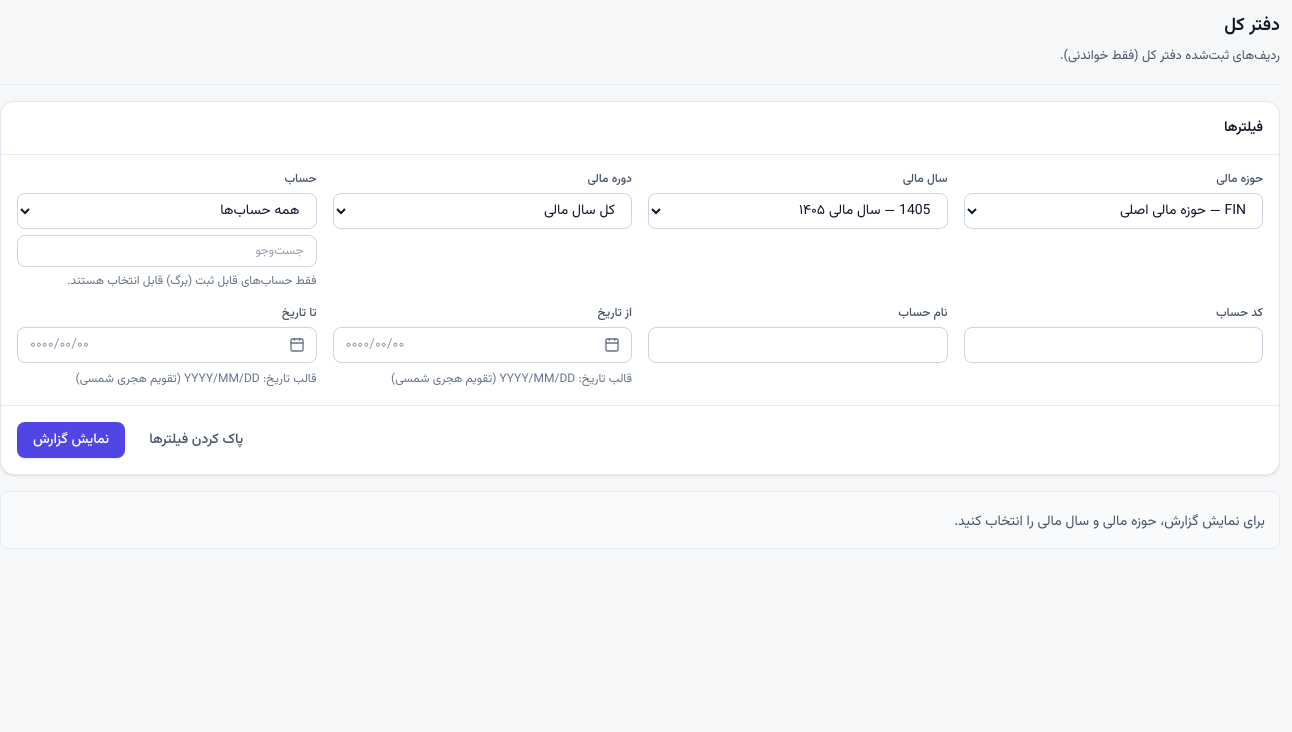
it: General Ledger page › surfaces a server rejection with its correlation id
expect the dropdown labelled "سال مالی" shows "1405 — سال مالی ۱۴۰۵": met, box [648,193,948,229]
What coordinates should you click on to do the following:
click the button "نمایش گزارش"
I would click on:
 (71, 440)
Its box is [17,422,125,458].
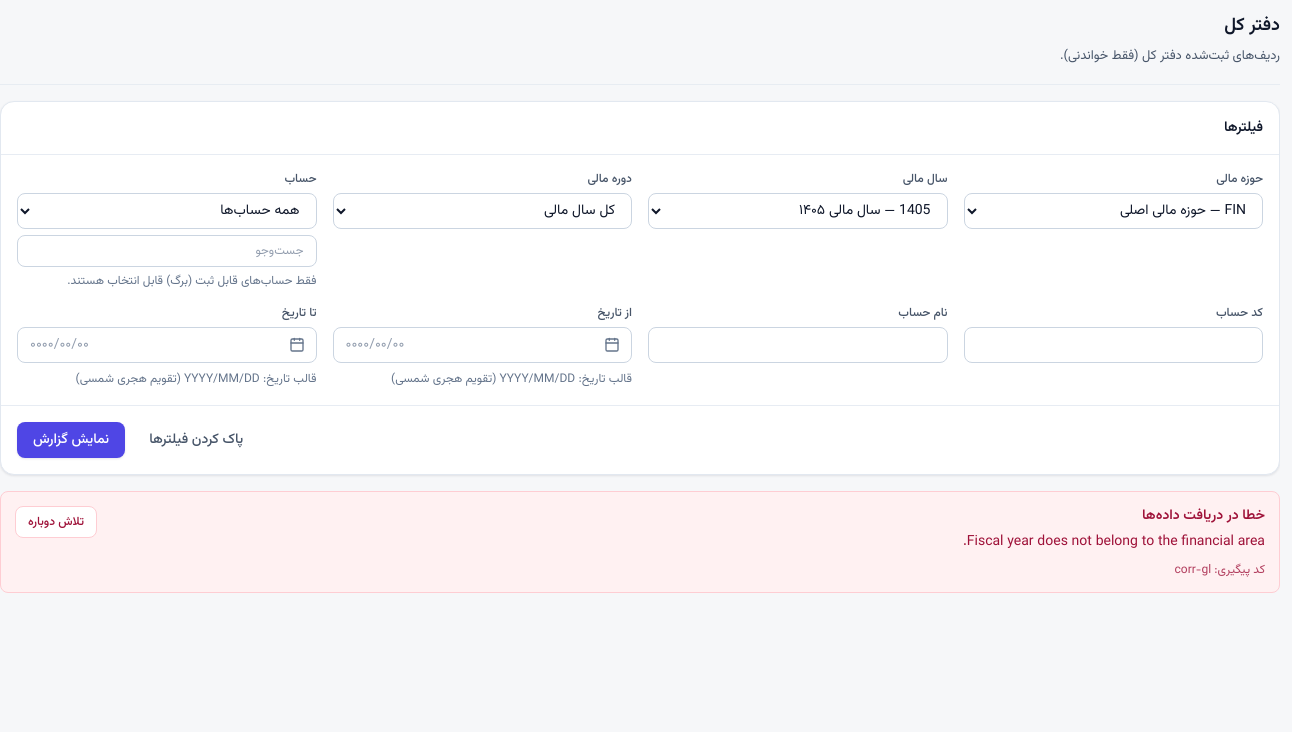
expect the text "خطا در دریافت داده‌ها" is shown: met, box [1142,505,1265,527]
expect the text "corr-gl" is shown: met, box [1174,561,1211,579]
